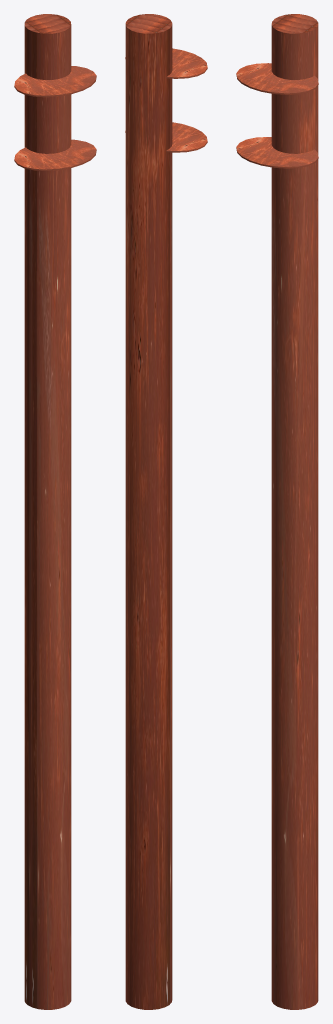
File: Pillar texture.fbx
3 views of the same model, side by side, from view 1: azimuth 30°, elevation 25°; view 2: azimuth 150°, elevation 25°; view 3: azimuth 330°, elevation 25° (orthographic).
Parts seen in each view (by area): view 1: polySurface368; view 2: polySurface368; view 3: polySurface368.
Part boxes in pixels (x1,y1,x2,y2): polySurface368: (14,14,96,1009); polySurface368: (125,14,207,1009); polySurface368: (236,14,318,1009).
Size of the model in its own units: 5.65 by 69.49 by 5.25.
